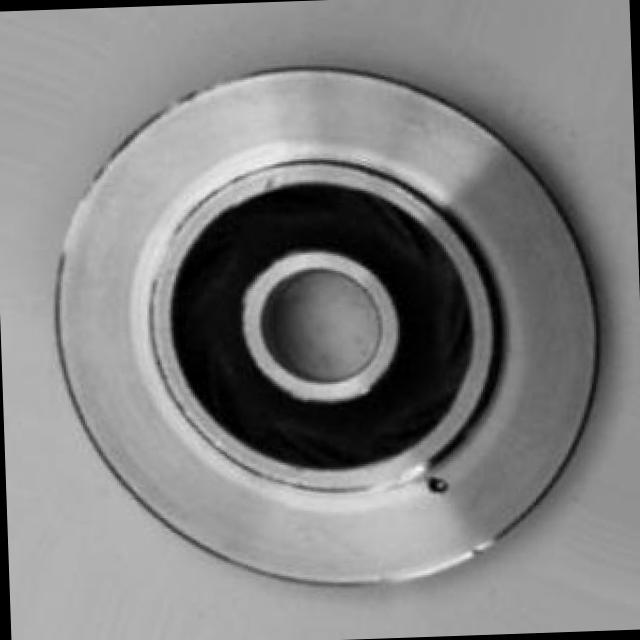Defect: (422, 468, 456, 509)
